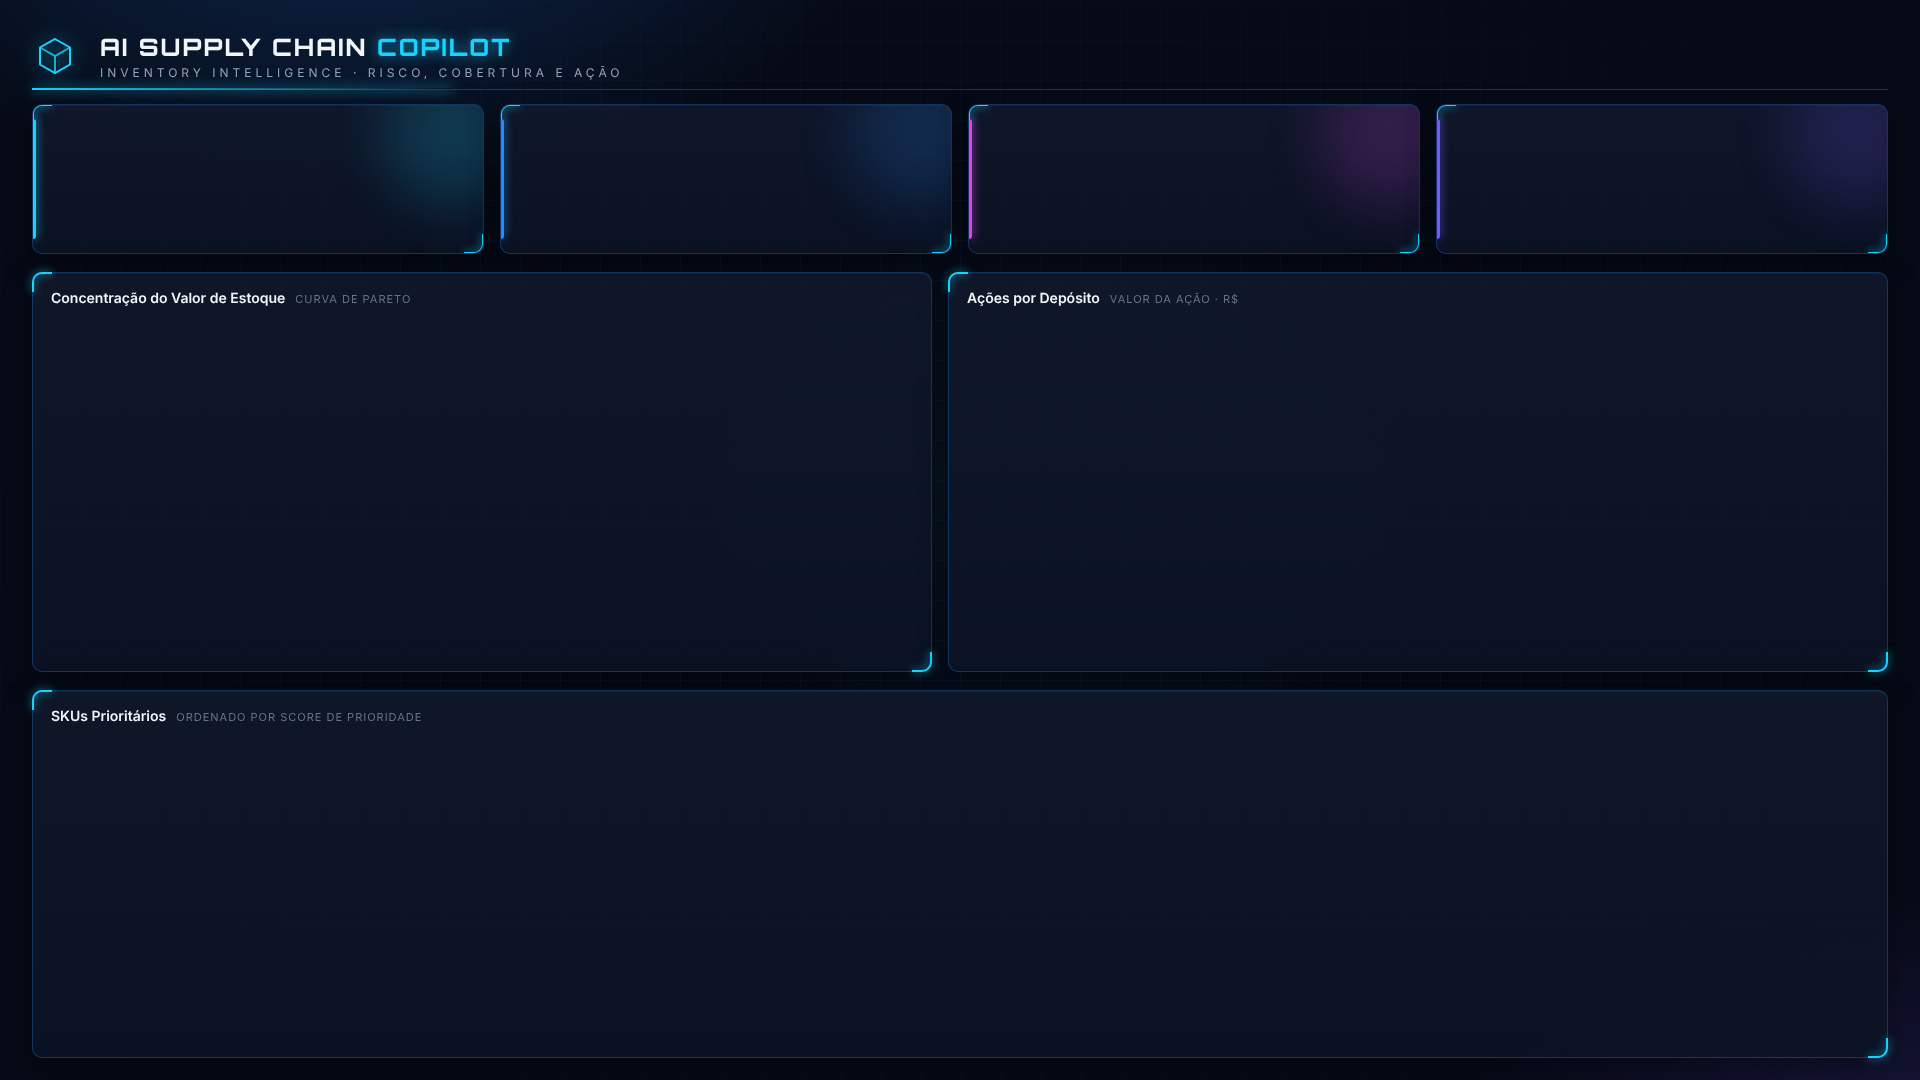

Layout of this report page (visuals, bound fields, positions):
{"tool":"powerbi","page":{"name":"dashboard","canvas":[1280,720],"ordinal":0},"visuals":[{"type":"cardVisual","fields":{"Data":["Sum(inventory_analysis.valor_estoque)"]},"box":[0,54,330,106],"z":0},{"type":"barChart","title":"Produtos por Grupo Gerencial","fields":{"Category":["inventory_analysis.grupo_gerencial"],"Y":["CountNonNull(inventory_analysis.sku)"]},"box":[0,160,660,238],"z":1000},{"type":"clusteredBarChart","title":"Produtos por Classe ABC","fields":{"Y":["CountNonNull(inventory_analysis.sku)"],"Category":["inventory_analysis.classe_abc"]},"box":[630,160,640,238],"z":2000},{"type":"tableEx","fields":{"Values":["inventory_analysis.sku","inventory_analysis.produto","inventory_analysis.unidade_medida","inventory_analysis.categoria","inventory_analysis.classe_abc","Sum(inventory_analysis.lead_time_dias)","inventory_analysis.grupo_gerencial","Sum(inventory_analysis.valor_acao)"]},"box":[0,398,1280,322],"z":3000},{"type":"cardVisual","fields":{"Data":["Sum(inventory_analysis.valor_reposicao)"]},"box":[330,54,330,106],"z":4000},{"type":"cardVisual","fields":{"Data":["Sum(inventory_analysis.valor_excesso)"]},"box":[660,54,330,106],"z":5000},{"type":"cardVisual","fields":{"Data":["Sum(inventory_analysis.valor_acao)"]},"box":[950,54,330,106],"z":6000},{"type":"textbox","box":[0,0,1280,78],"z":6001}]}

Visuals, with their boxes in screenshot pixels (x1, y1, x2, y2), scaled from the page's 1280x720 canvas onto the 1920x1080 screenshot:
cardVisual - Sum(inventory_analysis.valor_estoque): rect(0, 81, 495, 240)
"Produtos por Grupo Gerencial" barChart: rect(0, 240, 990, 597)
"Produtos por Classe ABC" clusteredBarChart: rect(945, 240, 1905, 597)
tableEx - inventory_analysis.sku x inventory_analysis.produto: rect(0, 597, 1919, 1079)
cardVisual - Sum(inventory_analysis.valor_reposicao): rect(495, 81, 990, 240)
cardVisual - Sum(inventory_analysis.valor_excesso): rect(990, 81, 1485, 240)
cardVisual - Sum(inventory_analysis.valor_acao): rect(1425, 81, 1919, 240)
textbox: rect(0, 0, 1919, 117)
